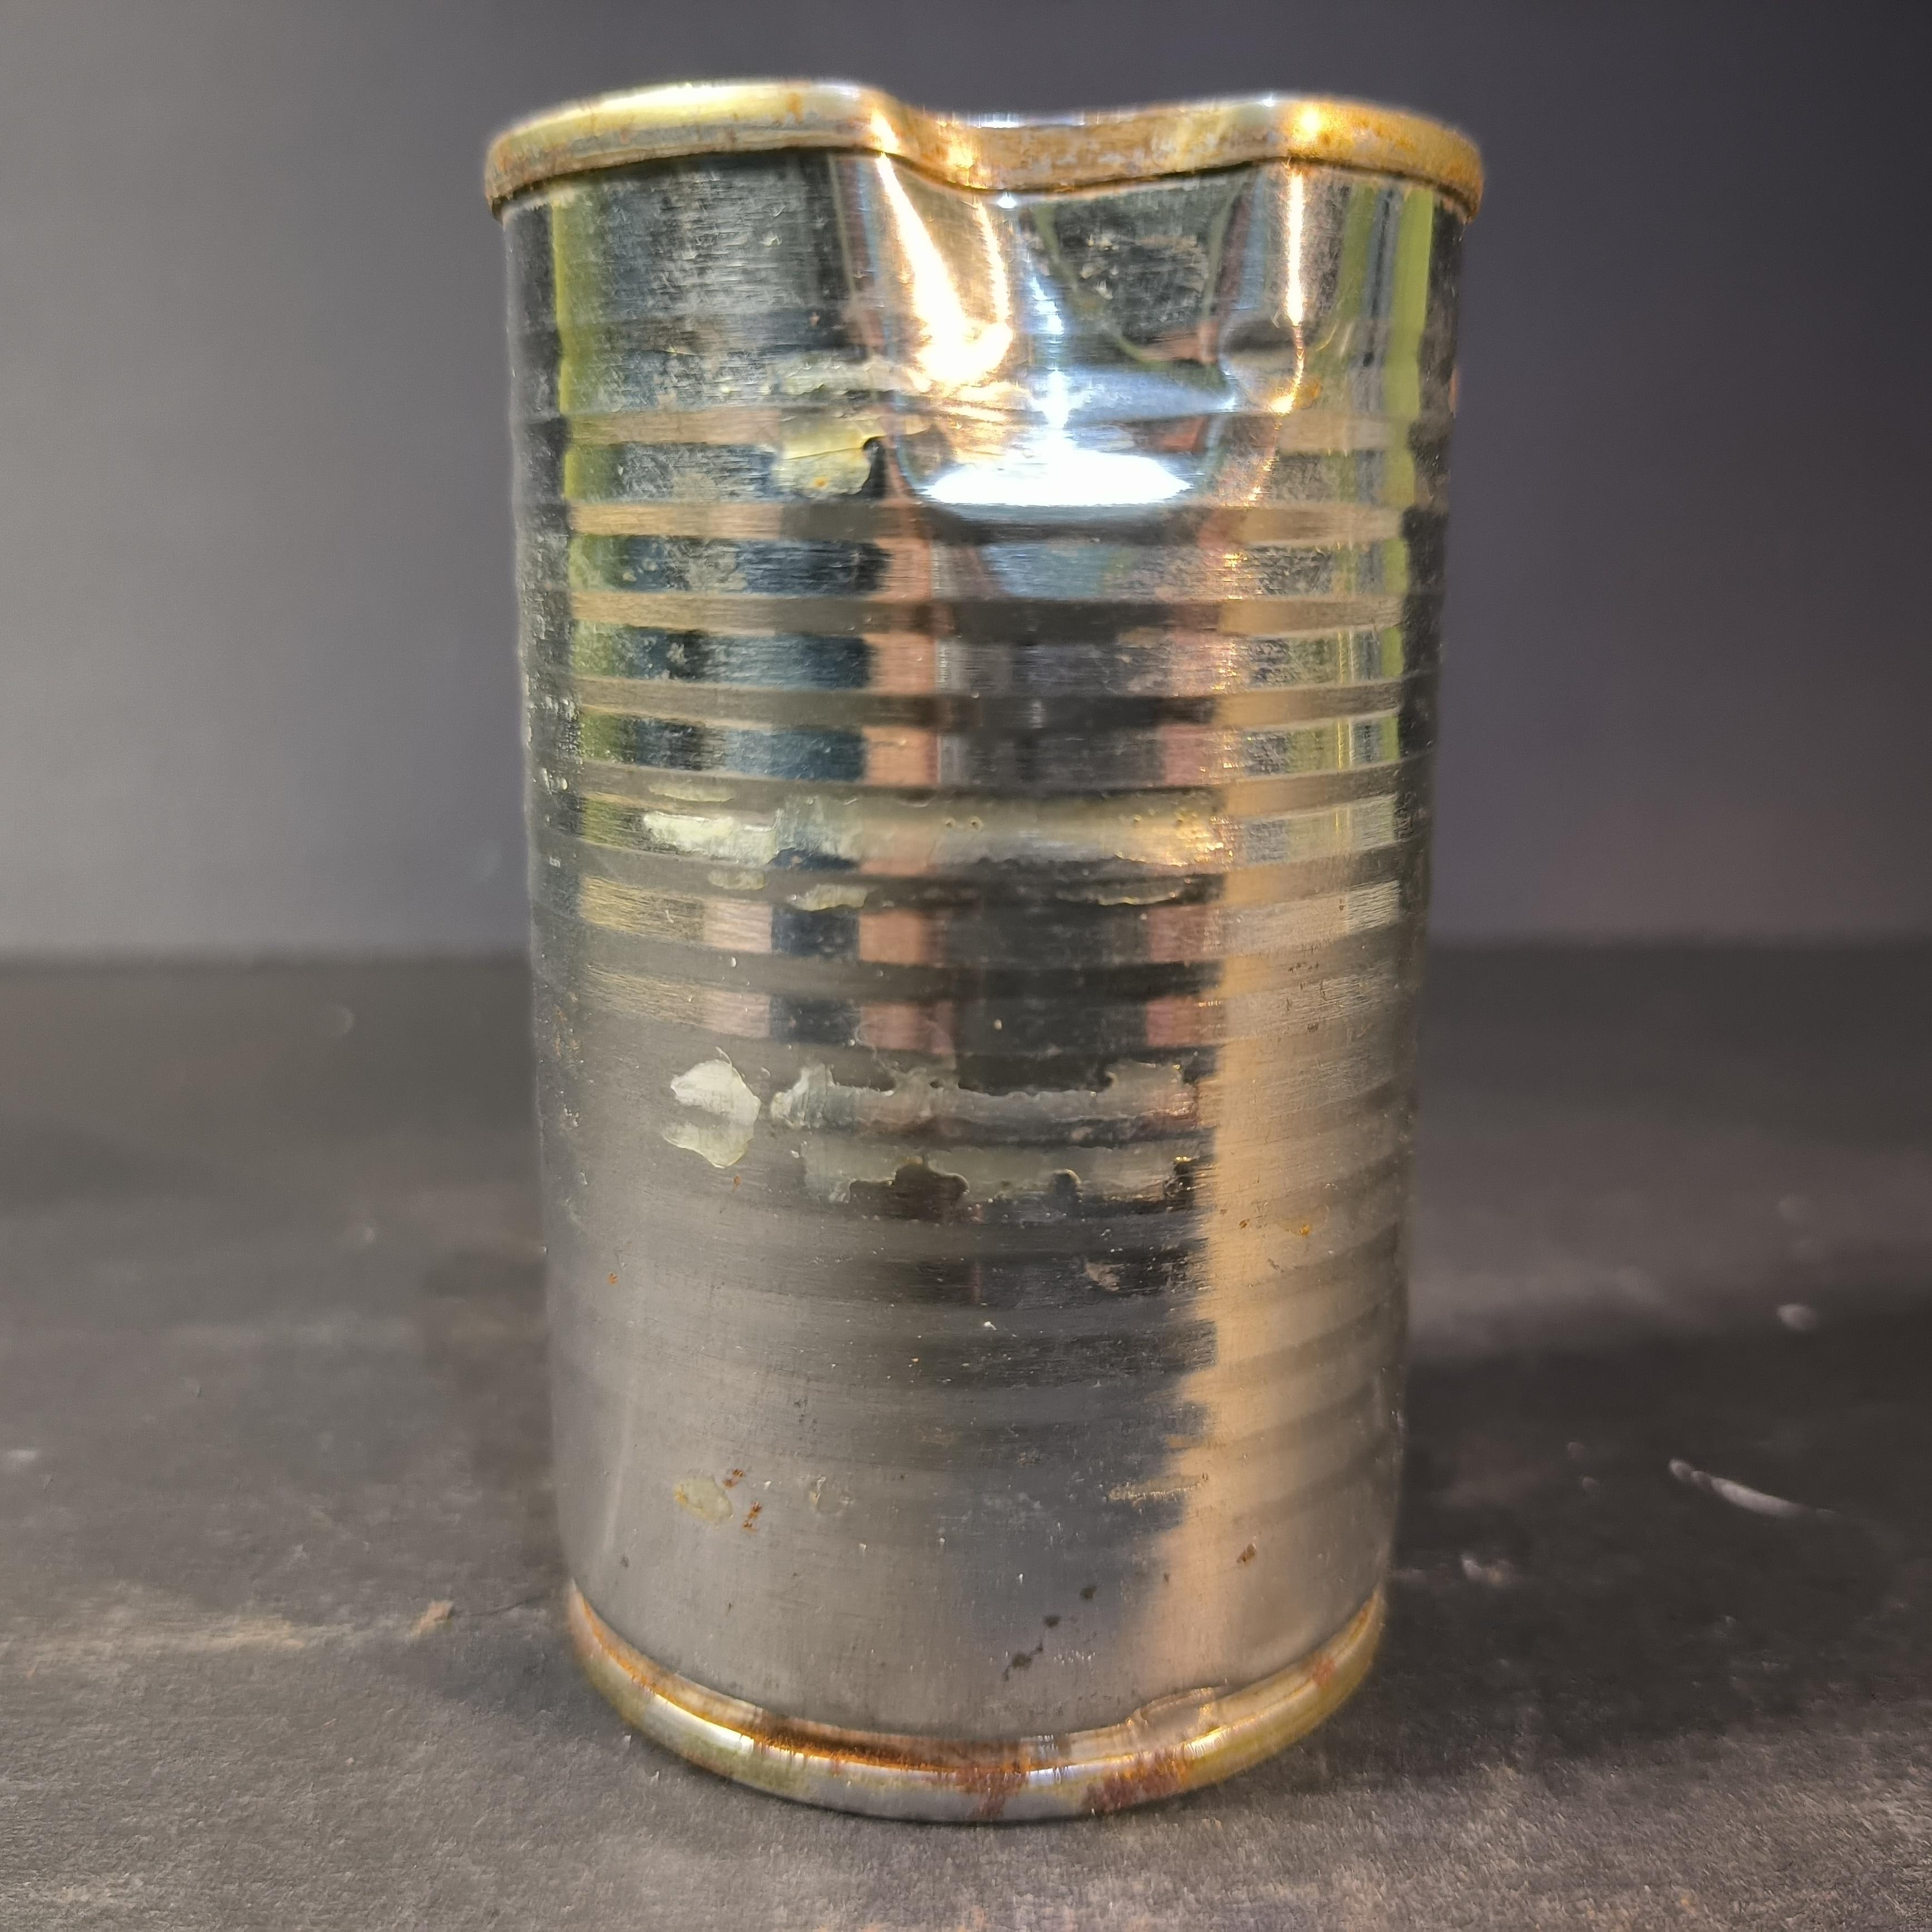Dented: (462, 33, 1505, 1820)
